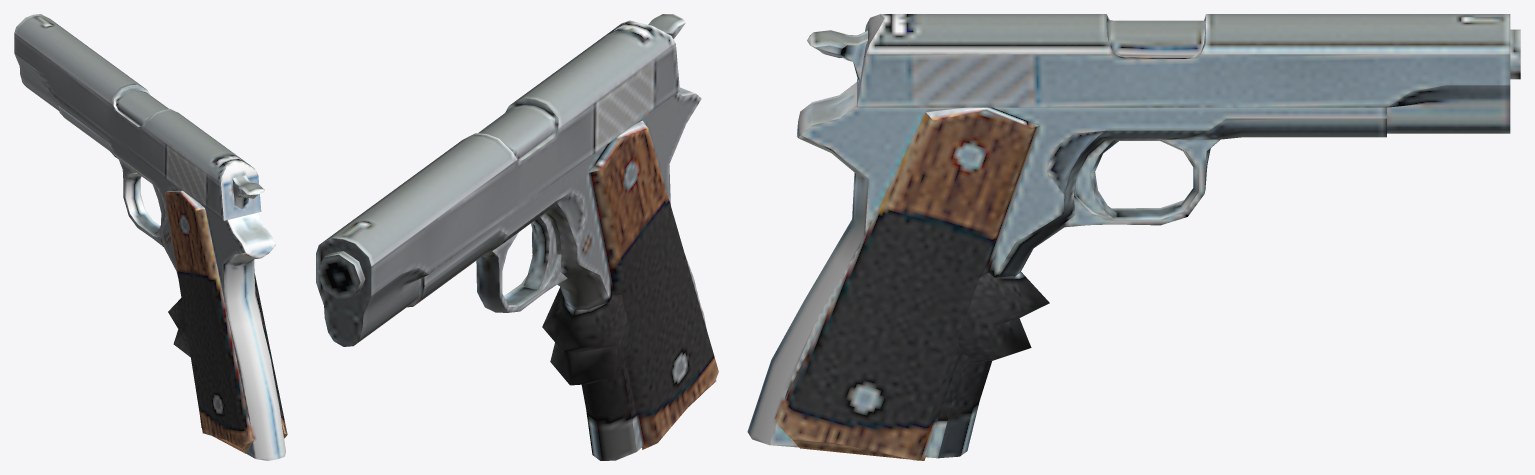
The model's file is ICA19.fbx.
3 views of the same model, side by side, from view 1: azimuth 30°, elevation 25°; view 2: azimuth 150°, elevation 25°; view 3: azimuth 270°, elevation 25° (orthographic). The views are drawn at different scales.
Visible parts, largest first — view 1: ICA19_Silverballer_LP; view 2: ICA19_Silverballer_LP; view 3: ICA19_Silverballer_LP.
Part boxes in pixels (x1,y1,x2,y2): ICA19_Silverballer_LP: (14, 14, 287, 460); ICA19_Silverballer_LP: (316, 14, 718, 460); ICA19_Silverballer_LP: (747, 14, 1520, 460).
Bounding box in the file's own units: 0.0151 × 0.149 × 0.0921.
